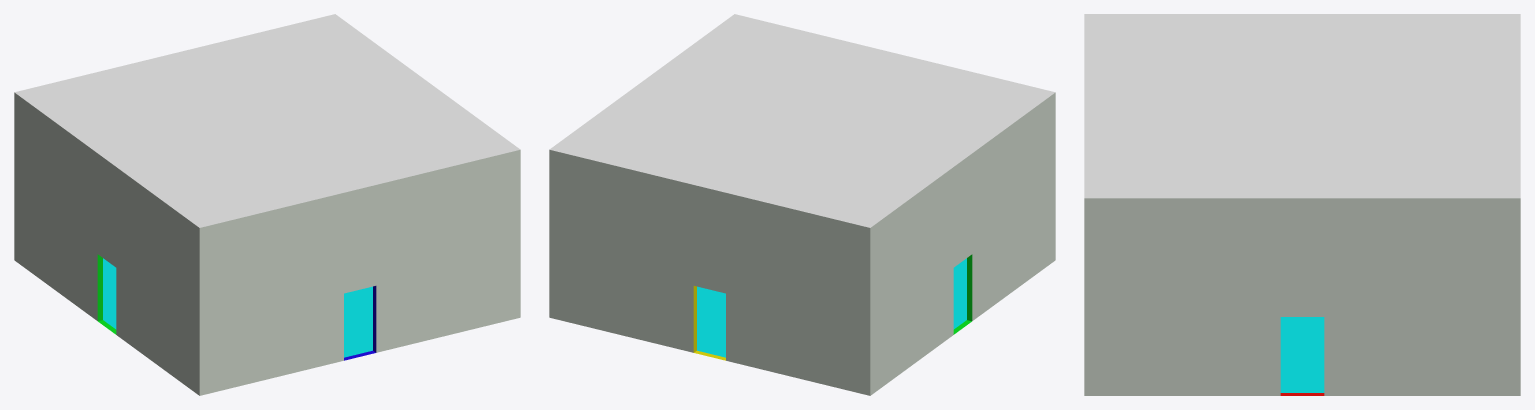
The model's file is dungeon_room.fbx.
The picture shows the model from 3 angles, left to right: view 1: azimuth 30°, elevation 25°; view 2: azimuth 150°, elevation 25°; view 3: azimuth 270°, elevation 25°; orthographic projection. The views are drawn at different scales.
Visible parts, largest first — view 1: Room; view 2: Room; view 3: Room.
Boxes of the visible parts, box(x1,y1,x2,y2) form: Room: box(14, 14, 520, 395); Room: box(549, 14, 1055, 395); Room: box(1084, 14, 1520, 395).
Size of the model in its own units: 1000 by 1000 by 500.
